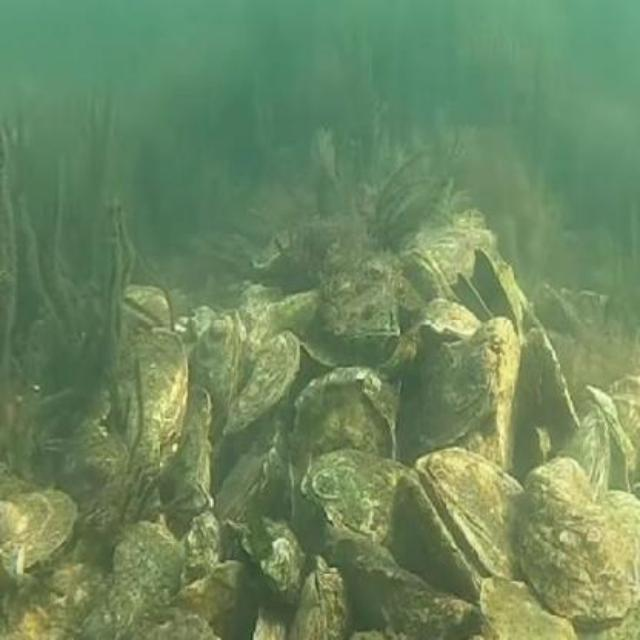Oyster-Closed: (518, 454, 631, 622), (293, 382, 398, 560), (406, 313, 513, 446), (423, 450, 524, 580), (391, 476, 483, 601), (113, 330, 190, 476), (299, 446, 417, 540), (310, 240, 407, 350), (510, 324, 574, 477), (573, 490, 638, 638), (228, 332, 300, 433), (185, 313, 248, 428), (0, 487, 74, 578), (582, 385, 632, 492), (177, 387, 214, 531), (482, 582, 577, 638), (244, 286, 316, 356), (293, 560, 349, 638), (565, 405, 610, 497), (399, 247, 456, 302), (604, 374, 638, 453)
Oyster-Open: (457, 245, 524, 342), (116, 283, 173, 333)
